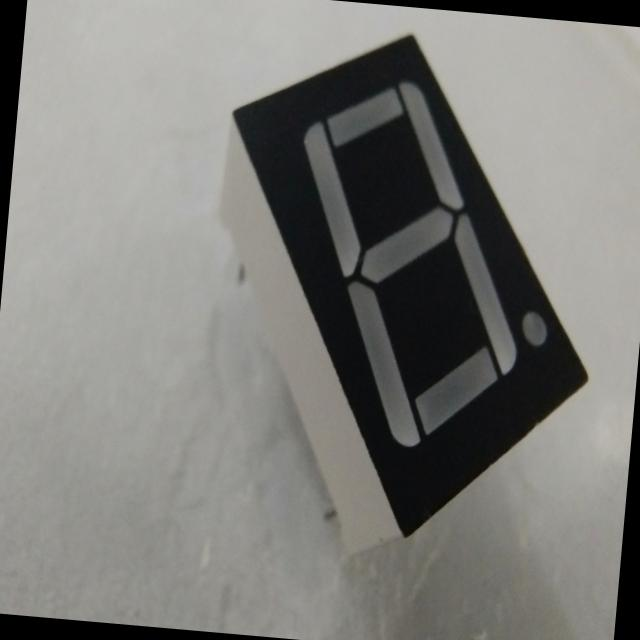7_segments: (176, 2, 626, 588)
